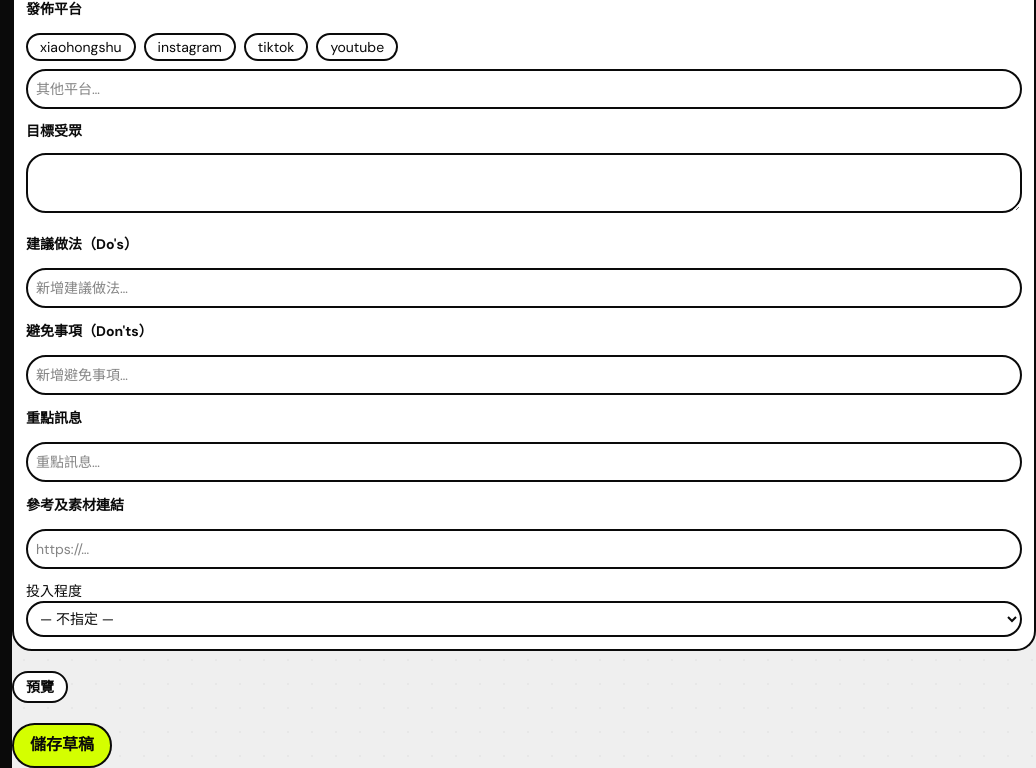
Test: MissionEditor › renders per-field server errors from AdminRequestError.fields
(page scrolled)
Click the button "儲存草稿" at coordinates (62, 746), box [12,724,112,767]
(page scrolled)
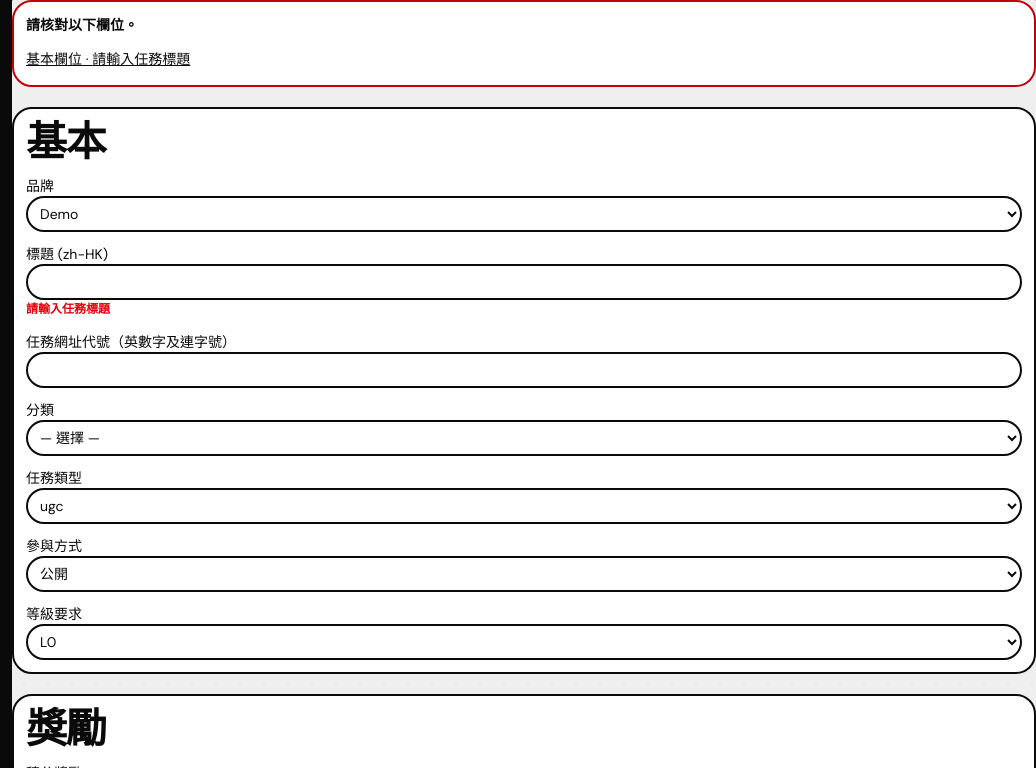
Check: the text "請輸入任務標題" is shown, box [26,301,110,317]
